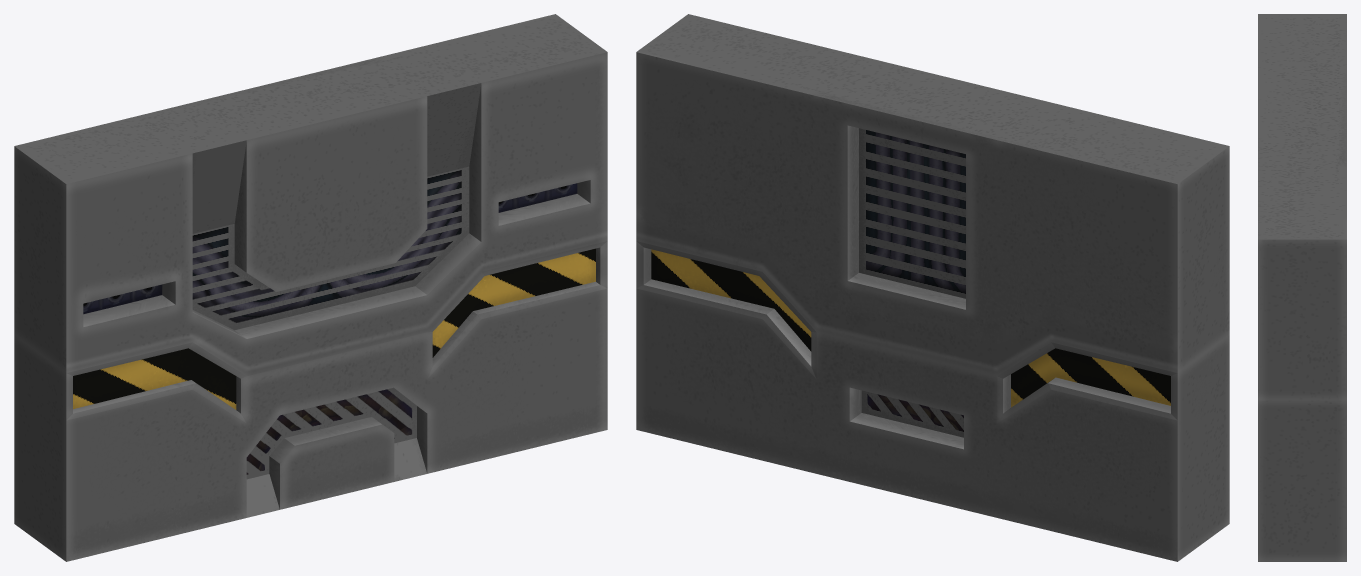
File: security door.fbx
3 renders of one model, left to right at view 1: azimuth 30°, elevation 25°; view 2: azimuth 150°, elevation 25°; view 3: azimuth 270°, elevation 25°, orthographic. The views are drawn at different scales.
Visible parts, largest first — view 1: Door Upper, Door Lower; view 2: Door Upper, Door Lower; view 3: Door Upper, Door Lower.
Boxes of the visible parts, bbox=[...] form: Door Upper: bbox=[14, 14, 607, 375]; Door Lower: bbox=[14, 241, 607, 561]; Door Upper: bbox=[636, 14, 1229, 375]; Door Lower: bbox=[636, 241, 1229, 561]; Door Upper: bbox=[1258, 14, 1346, 400]; Door Lower: bbox=[1258, 400, 1346, 561].
Bounding box in the file's own units: 6 × 4 × 1.
